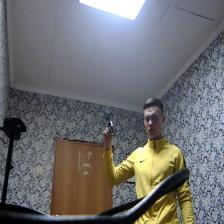drone: (98, 108, 122, 140)
